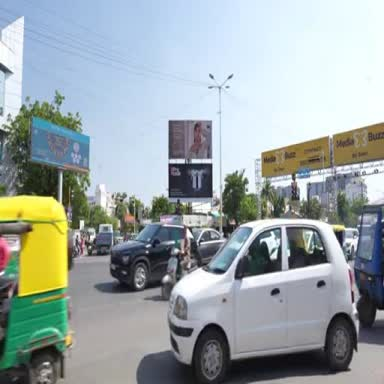Car: (168, 219, 359, 383), (110, 224, 183, 291), (192, 227, 226, 266), (346, 229, 358, 260)
